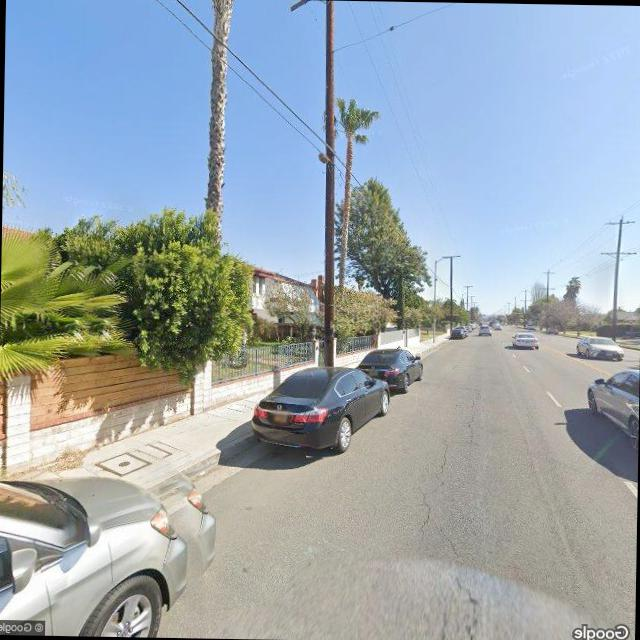crack: (423, 386, 486, 640)
